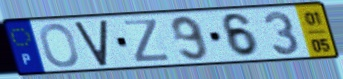3: (262, 8, 302, 57)
6: (219, 12, 261, 60)
9: (169, 14, 210, 62)
O: (38, 22, 81, 70)
V: (73, 18, 110, 68)
Z: (121, 17, 174, 64)
